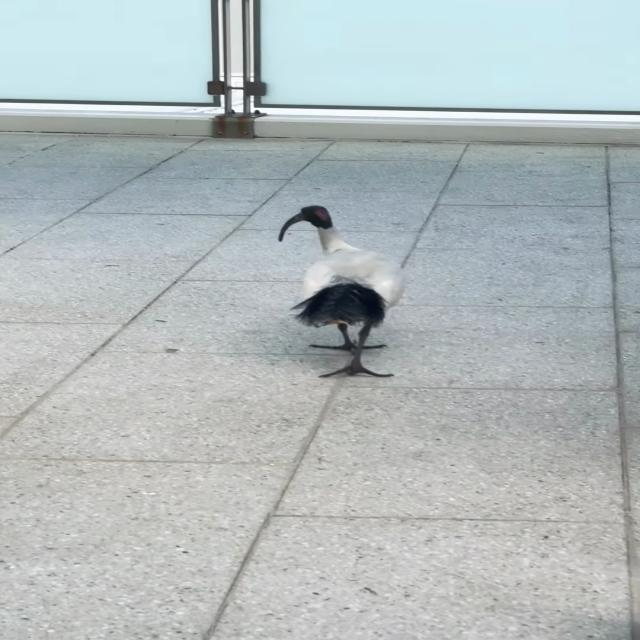Birds-Ibis: (272, 201, 412, 382)
